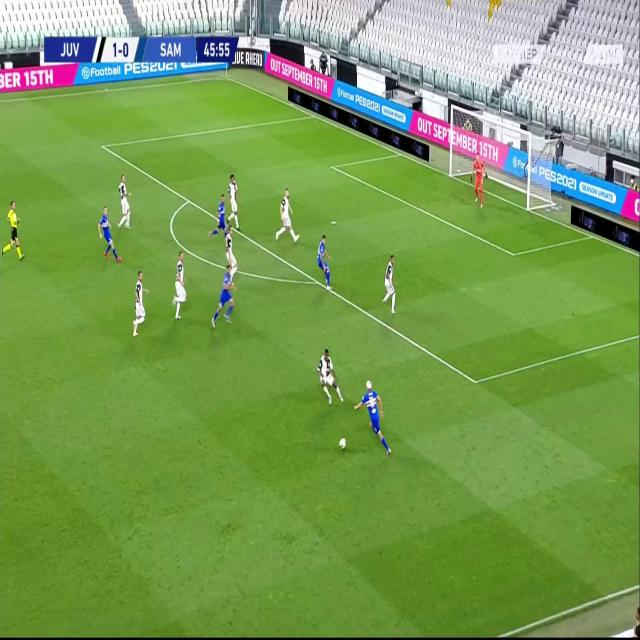ball: (338, 436, 347, 452)
player: (354, 377, 393, 460), (316, 348, 346, 406), (210, 265, 235, 332), (128, 268, 150, 338), (2, 197, 24, 265), (274, 188, 300, 245), (171, 250, 190, 326), (97, 204, 121, 262), (383, 252, 400, 316), (470, 153, 488, 209), (208, 194, 228, 240), (315, 235, 331, 292), (226, 173, 241, 231), (118, 174, 132, 232), (224, 226, 237, 288)
